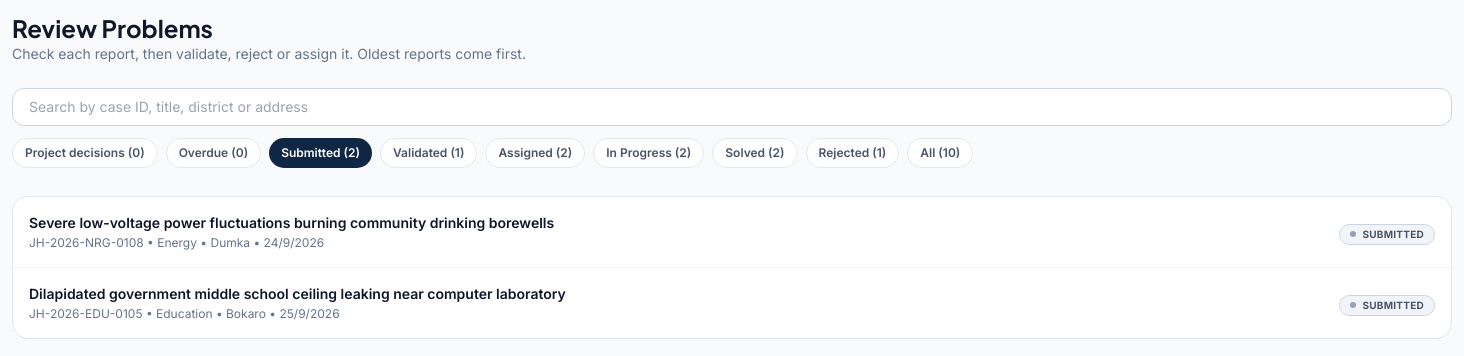
Test: ReviewProblems › starts with reports awaiting review, oldest first
The width and height of the screenshot is (1464, 356).
What coordinates should you click on to do the following:
click the button "Rejected (1)"
I would click on:
 (852, 153)
Its box is [806,138,899,168].
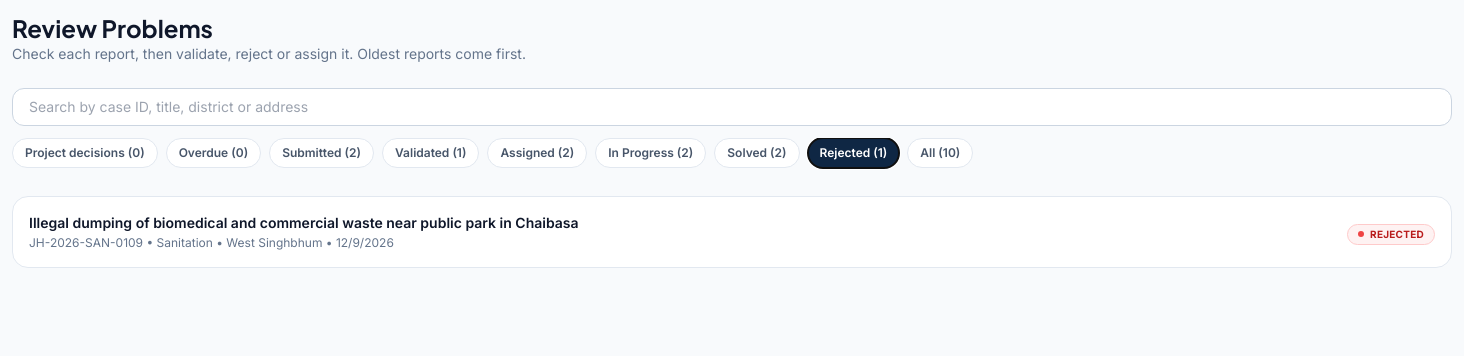
Check: the number of links is 1, box [29,214,1435,250]
